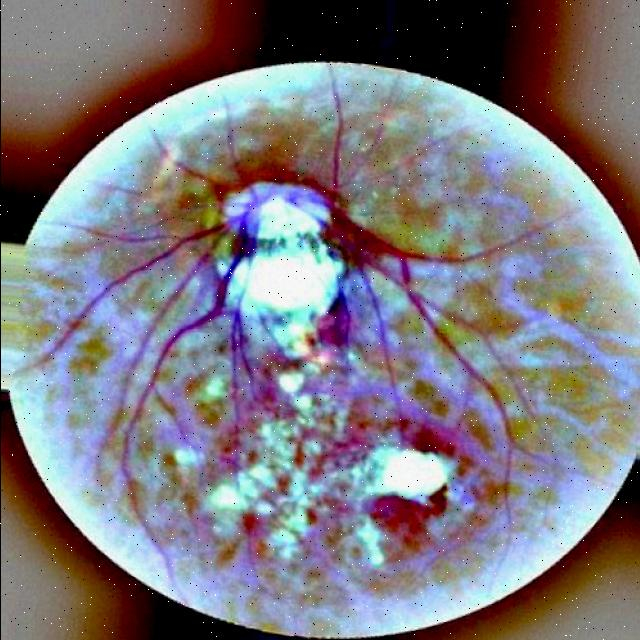Nerves: (293, 90, 513, 522), (31, 184, 261, 483), (125, 249, 209, 378), (323, 293, 353, 351)
Optic Disk: (216, 185, 343, 359)
